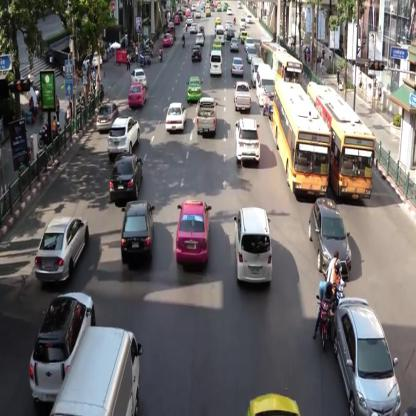bus: (309, 83, 374, 199), (273, 82, 333, 194), (272, 48, 302, 94), (259, 38, 286, 69)
car: (31, 293, 103, 405), (335, 297, 400, 415), (34, 218, 90, 282), (234, 206, 276, 285), (308, 199, 352, 272), (177, 199, 211, 265), (121, 200, 153, 264), (111, 152, 142, 204), (108, 115, 140, 154), (236, 118, 259, 167), (97, 101, 119, 132), (167, 102, 186, 134), (128, 82, 145, 107), (132, 68, 148, 88), (188, 78, 202, 100), (232, 57, 243, 75), (195, 29, 205, 47), (247, 47, 258, 63), (240, 28, 249, 47), (162, 33, 173, 48), (226, 24, 235, 42), (245, 35, 254, 53), (191, 47, 202, 61), (189, 21, 198, 35), (231, 35, 238, 53), (215, 15, 222, 25)
motocycle: (158, 46, 164, 63), (181, 35, 186, 49)
person: (125, 52, 132, 72), (134, 43, 138, 61)
truck: (196, 96, 218, 135), (234, 79, 250, 111)
van: (49, 329, 144, 415), (256, 66, 276, 107), (210, 51, 223, 76), (251, 56, 263, 82), (214, 26, 225, 44)
